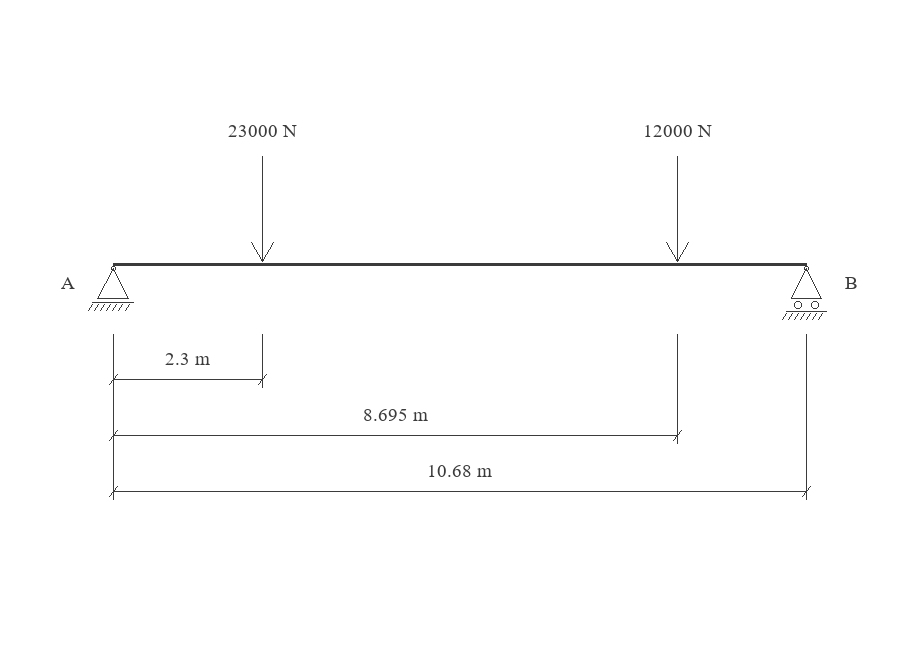pin_support: (88, 266, 134, 311)
point_load: (251, 156, 274, 262), (666, 156, 689, 262)
roller_support: (782, 266, 827, 320)
